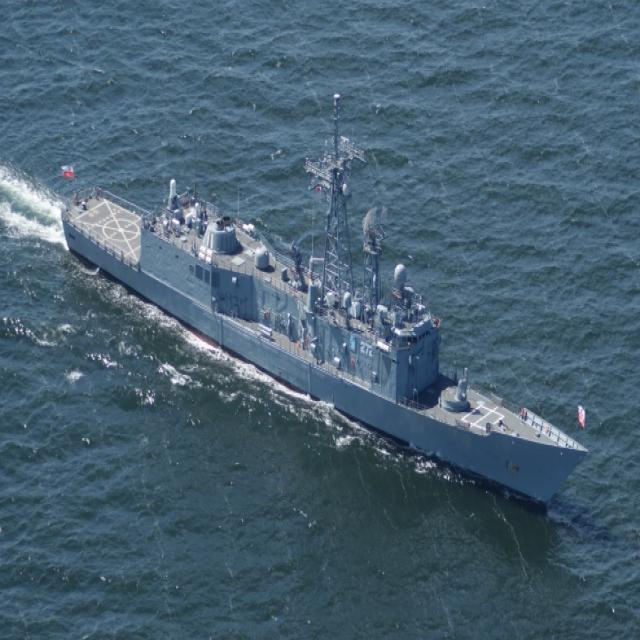Fragata: (61, 95, 588, 518)
